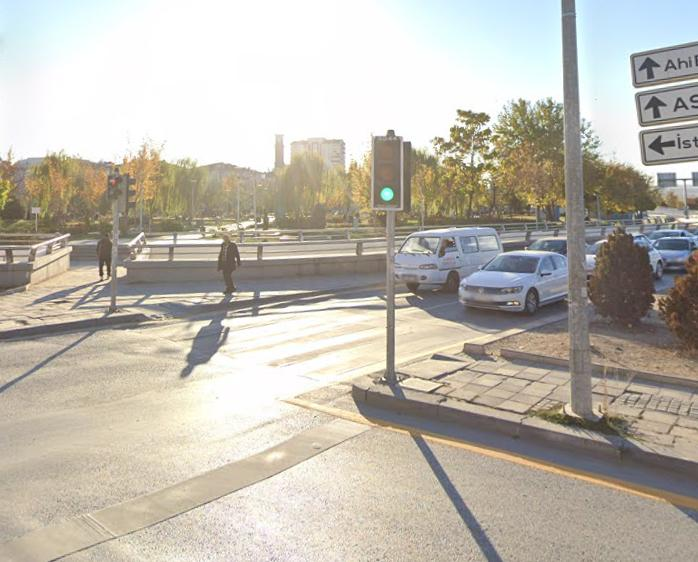greenlight: (373, 137, 400, 203)
